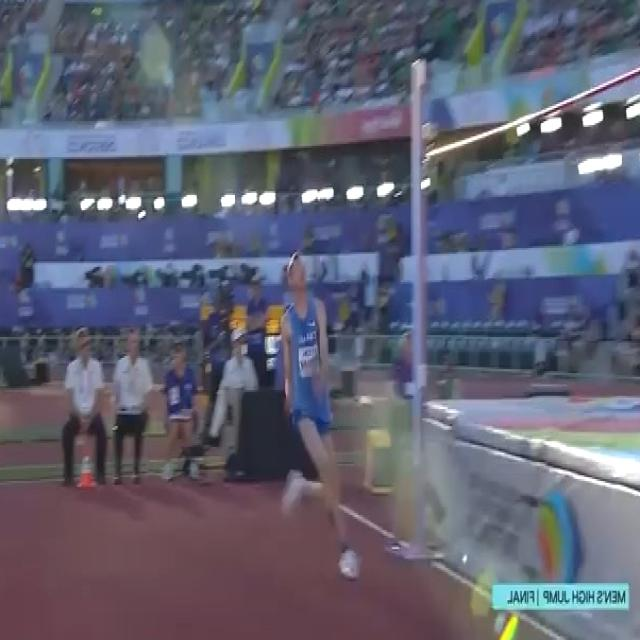land: (282, 256, 361, 576)
